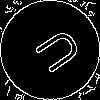U: (25, 25, 84, 81)
